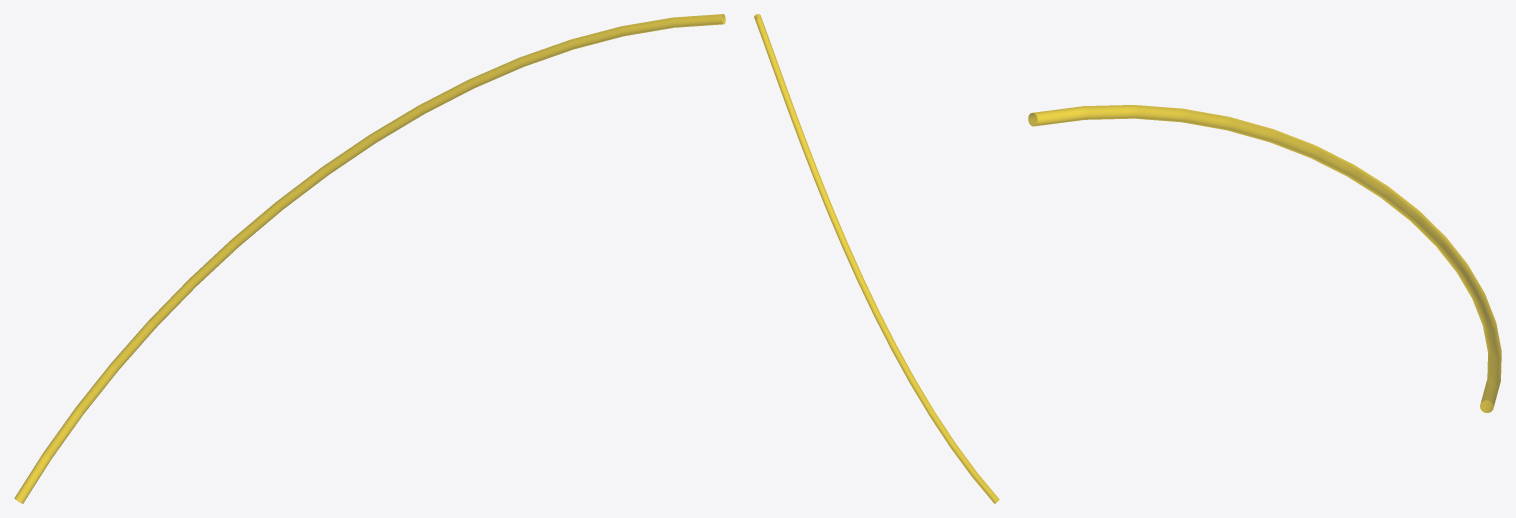
File: Event_75125125_track_40.fbx
3 views of the same model, side by side, from view 1: azimuth 30°, elevation 25°; view 2: azimuth 150°, elevation 25°; view 3: azimuth 270°, elevation 25° (orthographic). The views are drawn at different scales.
Visible parts, largest first — view 1: Model; view 2: Model; view 3: Model.
Part boxes in pixels (x1=…): Model: x1=14, y1=14, x2=725, y2=503; Model: x1=754, y1=14, x2=999, y2=503; Model: x1=1028, y1=105, x2=1501, y2=412.
Bounding box in the file's own units: 2.39 × 2.05 × 1.37.
